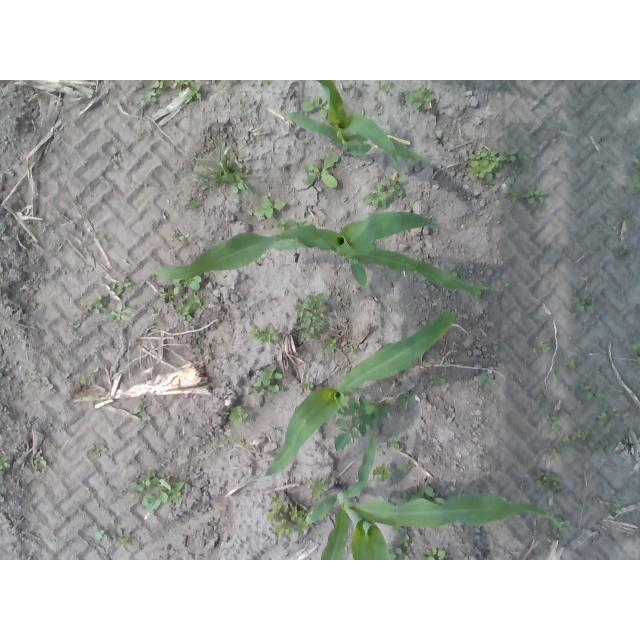Maize: (304, 437, 565, 560), (267, 311, 456, 472), (152, 211, 491, 299), (285, 80, 439, 172)
Weeds: (186, 136, 258, 197), (333, 395, 387, 451), (131, 466, 186, 510), (267, 493, 314, 541), (295, 292, 325, 340), (468, 148, 502, 187), (362, 176, 402, 209), (302, 155, 339, 190), (158, 276, 202, 303), (251, 362, 284, 395), (398, 484, 447, 505), (532, 468, 565, 496), (385, 524, 410, 560), (404, 85, 437, 111), (503, 149, 536, 175), (298, 94, 328, 119), (254, 197, 287, 219), (175, 295, 202, 321), (169, 80, 201, 101), (522, 186, 550, 208), (575, 382, 605, 402), (597, 408, 622, 431), (499, 176, 521, 202), (223, 403, 249, 425), (107, 303, 138, 321), (546, 509, 571, 531), (250, 325, 278, 344), (369, 463, 392, 486), (306, 476, 328, 500), (573, 291, 595, 313), (277, 219, 308, 234), (132, 400, 152, 423), (109, 277, 133, 296), (562, 428, 590, 444), (89, 293, 111, 313), (138, 88, 158, 109), (589, 436, 610, 455), (115, 527, 134, 548), (420, 548, 445, 561), (532, 341, 553, 355), (478, 374, 495, 391), (89, 442, 107, 458), (384, 433, 400, 450), (607, 497, 625, 512), (171, 230, 191, 243), (92, 525, 109, 540), (441, 263, 457, 278), (432, 370, 447, 386), (399, 389, 413, 406), (472, 281, 484, 300), (631, 339, 640, 364), (187, 194, 201, 210), (628, 173, 640, 191), (377, 81, 392, 95), (108, 146, 121, 162), (0, 454, 12, 471), (190, 338, 202, 355), (614, 244, 629, 257), (564, 357, 577, 371), (36, 456, 49, 468), (326, 338, 339, 350), (151, 80, 167, 89), (298, 380, 314, 389), (548, 425, 562, 435), (547, 414, 559, 425), (547, 530, 557, 543), (631, 155, 640, 169), (551, 368, 561, 380), (68, 322, 81, 331), (400, 463, 413, 472), (549, 450, 560, 459), (79, 376, 90, 385), (584, 249, 599, 255), (98, 234, 108, 243), (30, 370, 38, 381), (347, 346, 356, 354), (234, 97, 242, 105), (620, 427, 629, 433), (221, 80, 246, 82), (541, 387, 547, 394), (324, 513, 331, 519), (262, 80, 271, 84), (0, 494, 4, 503)
